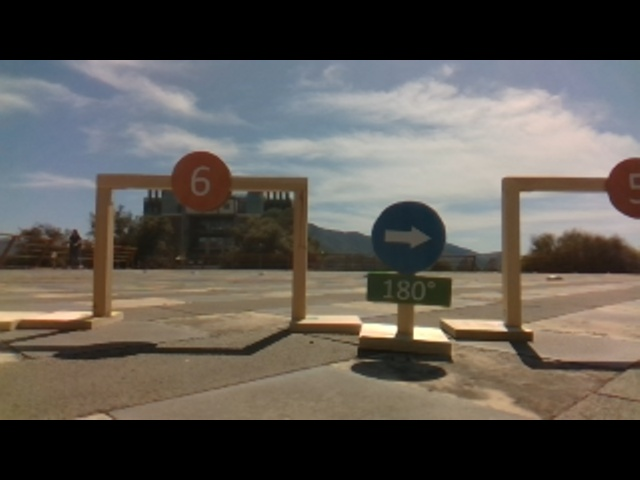180_degree: (364, 273, 455, 305)
arrow_right: (365, 195, 448, 273)
checkpoint_foot: (23, 302, 125, 329), (441, 313, 536, 341), (284, 305, 364, 332)
checkpoint_side: (500, 174, 528, 329), (286, 172, 313, 318), (91, 165, 114, 318)
checkpoint_signal: (91, 170, 320, 194), (497, 173, 640, 199)
five: (606, 158, 640, 217)
six: (169, 148, 236, 212)
